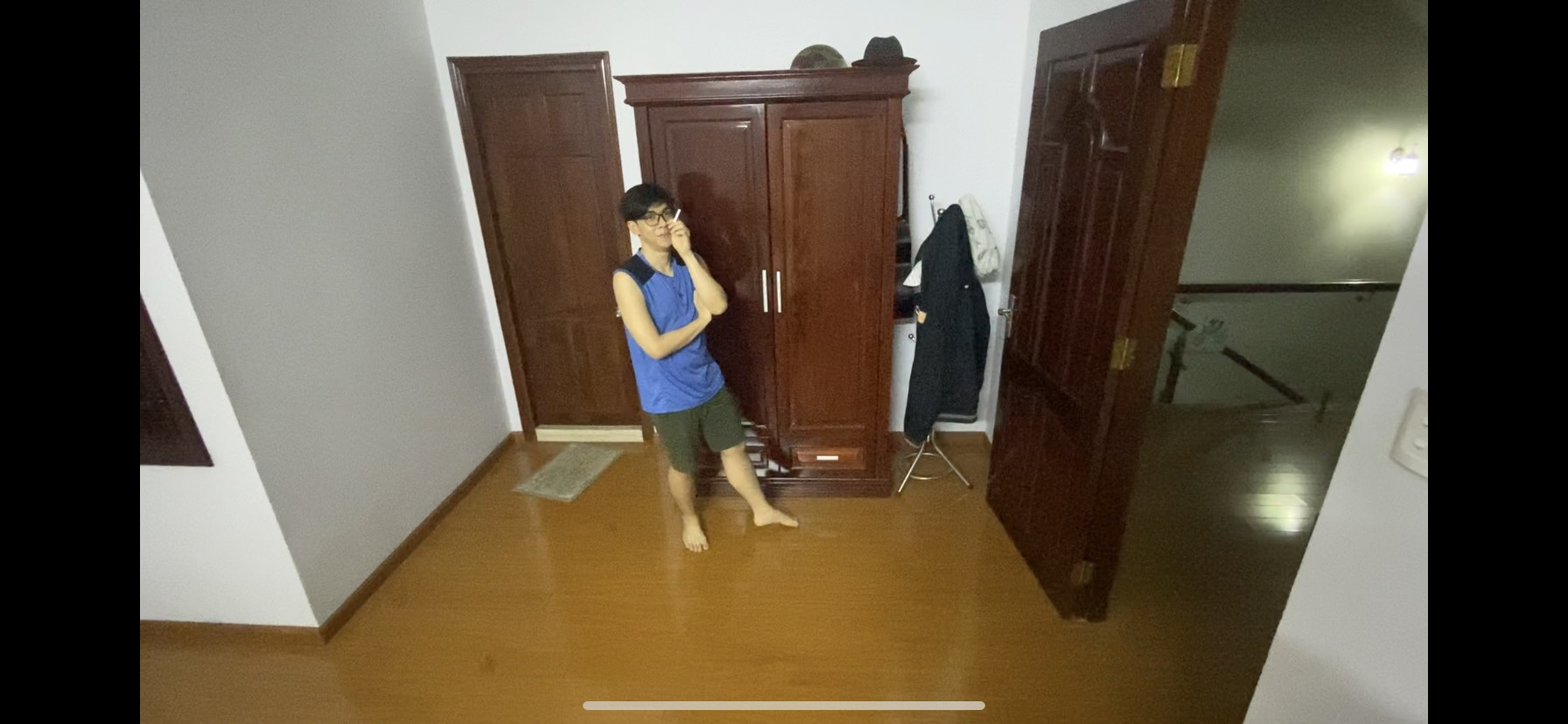cigarette: (673, 208, 687, 223)
person: (606, 178, 802, 553)
